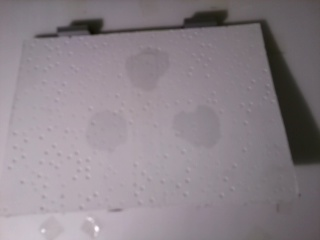Water_detected: (89, 118, 129, 156), (126, 48, 166, 86), (179, 107, 216, 142)
